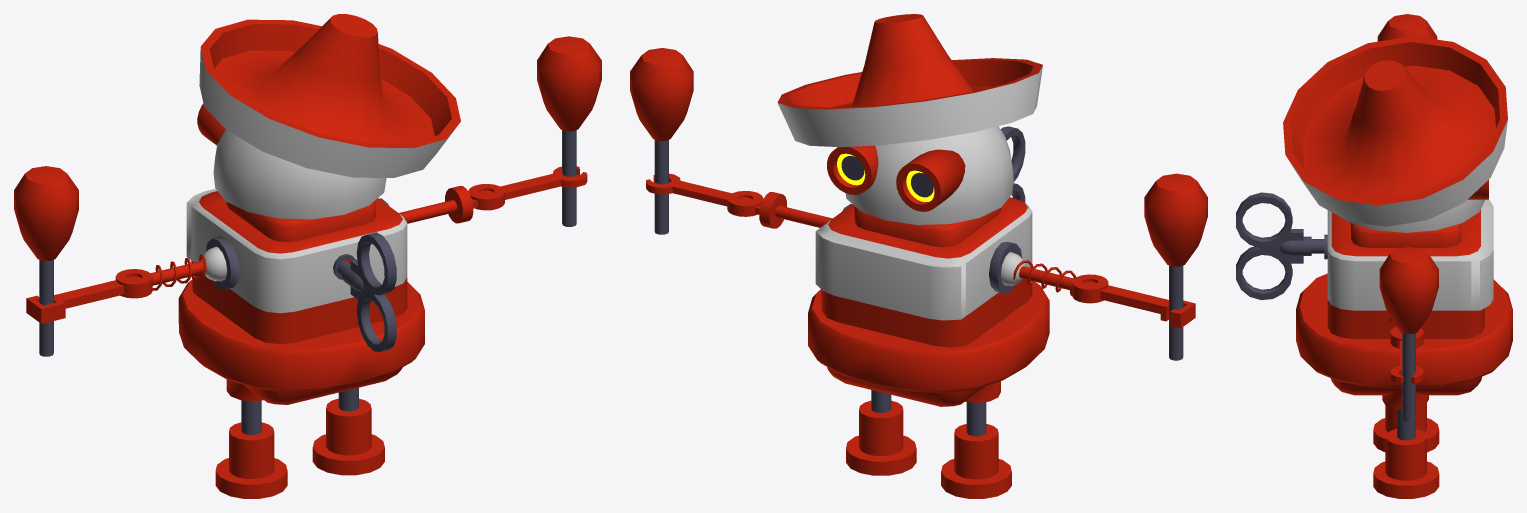
The model's file is mexicano-bot.fbx.
The picture shows the model from 3 angles, left to right: view 1: azimuth 30°, elevation 25°; view 2: azimuth 150°, elevation 25°; view 3: azimuth 270°, elevation 25°; orthographic projection. The views are drawn at different scales.
Parts seen in each view (by area): view 1: cabeza, torso, Object003, brazo, piernas002, piernas, palanca; view 2: torso, cabeza, Object003, brazo, piernas002, piernas, palanca; view 3: cabeza, torso, brazo, palanca, piernas, piernas002, Object003.
Part boxes in pixels (bbox=[...]): cabeza: bbox=[197, 14, 460, 219]; torso: bbox=[178, 188, 424, 404]; Object003: bbox=[14, 166, 227, 356]; brazo: bbox=[399, 36, 601, 226]; piernas002: bbox=[215, 400, 287, 498]; piernas: bbox=[312, 387, 384, 475]; palanca: bbox=[337, 232, 396, 351]; torso: bbox=[808, 197, 1049, 406]; cabeza: bbox=[777, 14, 1042, 224]; Object003: bbox=[1001, 173, 1207, 360]; brazo: bbox=[630, 48, 832, 234]; piernas002: bbox=[941, 402, 1011, 498]; piernas: bbox=[846, 390, 916, 475]; palanca: bbox=[1001, 126, 1025, 202]; cabeza: bbox=[1283, 36, 1507, 232]; torso: bbox=[1296, 199, 1512, 409]; brazo: bbox=[1379, 247, 1438, 421]; palanca: bbox=[1236, 192, 1324, 300]; piernas: bbox=[1373, 409, 1439, 498]; piernas002: bbox=[1373, 403, 1439, 452]; Object003: bbox=[1377, 14, 1437, 41].
Bounding box in the file's own units: 207 × 154 × 93.73.
